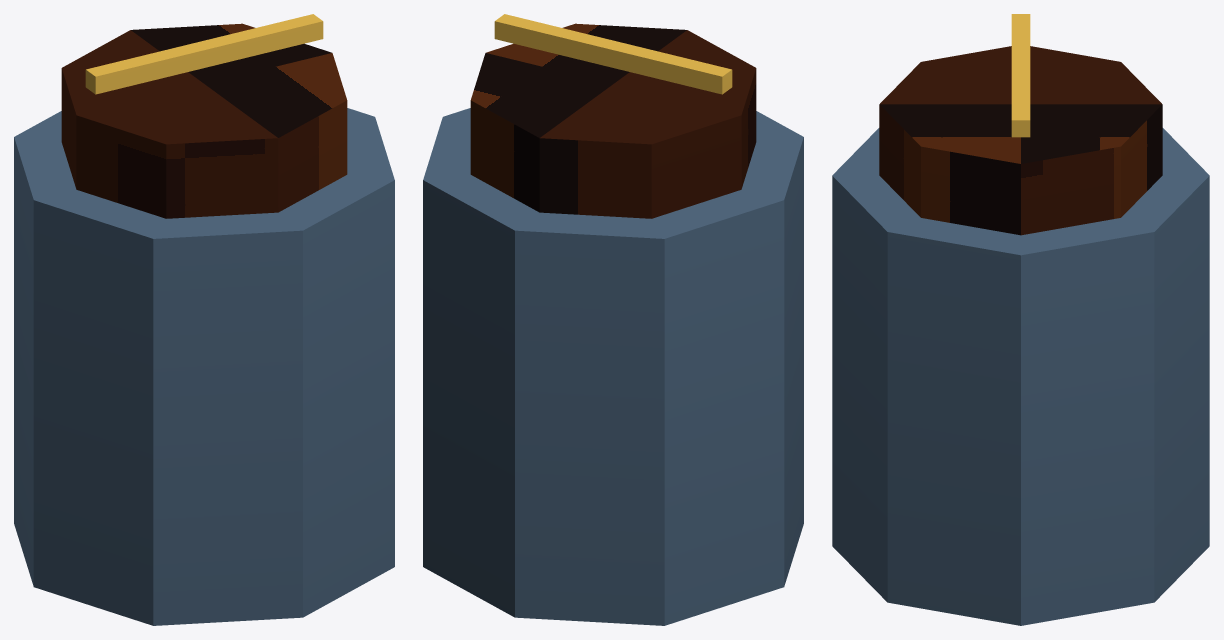
File: wisp_jar.glb
3 renders of one model, left to right at view 1: azimuth 30°, elevation 25°; view 2: azimuth 150°, elevation 25°; view 3: azimuth 270°, elevation 25°, orthographic. The views are drawn at different scales.
Visible parts, largest first — view 1: wisp_jar; view 2: wisp_jar; view 3: wisp_jar.
Part boxes in pixels (x1,y1,x2,y2): wisp_jar: [14, 14, 394, 625]; wisp_jar: [423, 14, 803, 625]; wisp_jar: [832, 14, 1209, 625].
Bounding box in the file's own units: 0.24 × 0.336 × 0.24.
3 materials, 1 textured.
